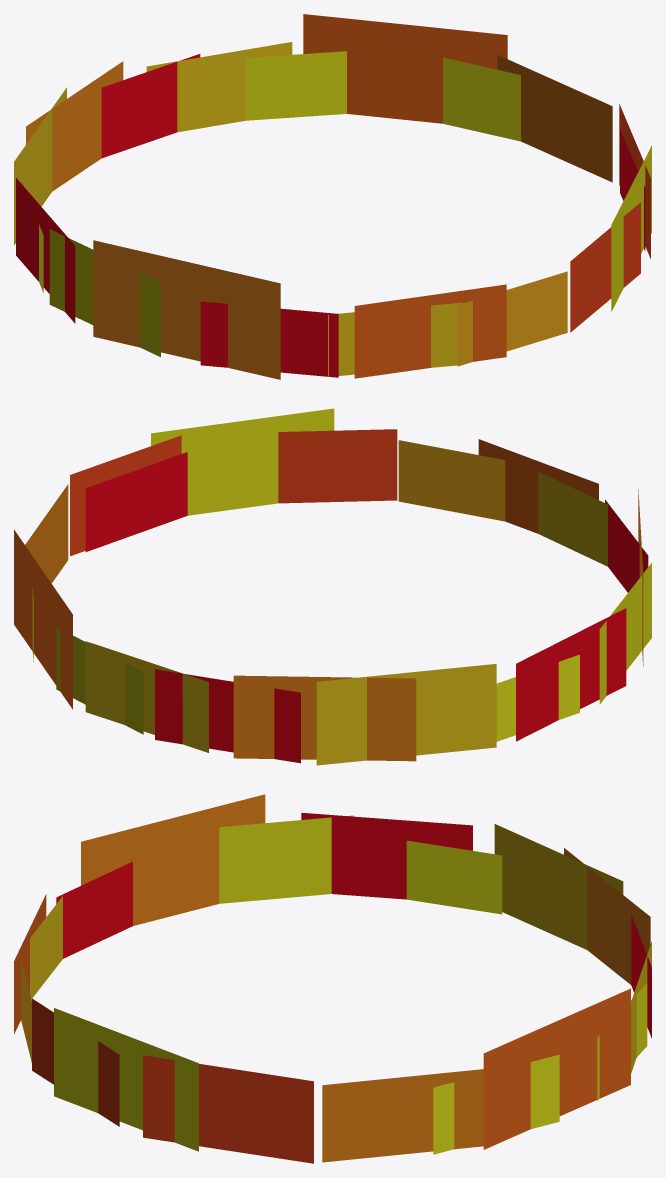
Rendered from cloud.fbx.
3 views of the same model, one above another, from view 1: azimuth 30°, elevation 25°; view 2: azimuth 150°, elevation 25°; view 3: azimuth 270°, elevation 25° (orthographic).
Visible parts, largest first — view 1: cloud; view 2: cloud; view 3: cloud.
Boxes of the visible parts, x1,y1,x2,y2 form: cloud: (14,14,651,379); cloud: (14,408,651,765); cloud: (14,794,651,1163).
Bounding box in the file's own units: 10410 × 1746 × 10320.
